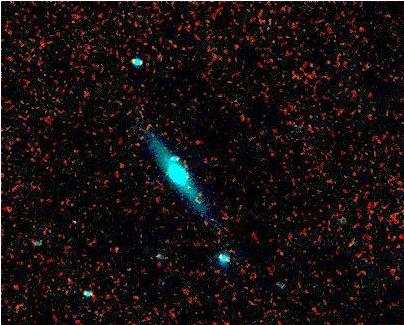star: (156, 138, 186, 168)
